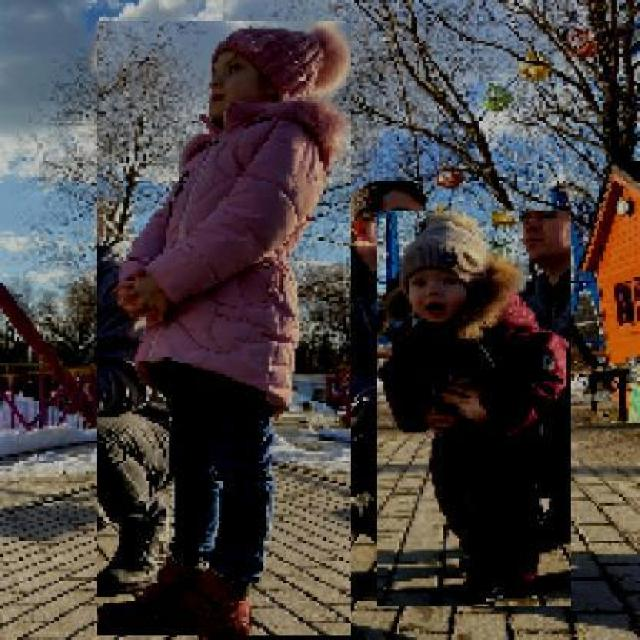child: (95, 20, 352, 637), (375, 212, 571, 608)
